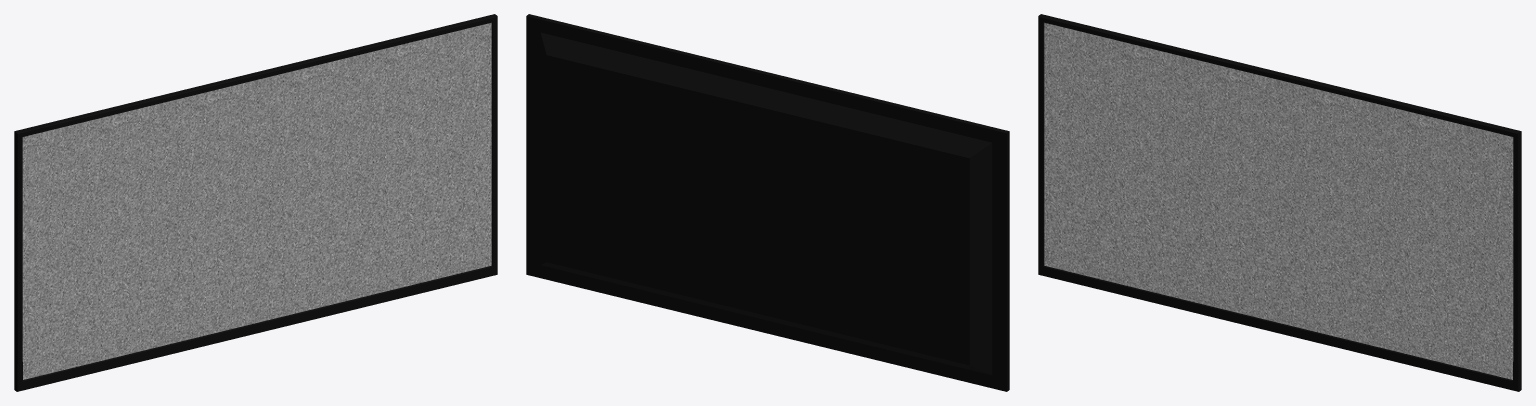
Rendered from watchman_of_doom_screen.glb.
3 renders of one model, left to right at view 1: azimuth 30°, elevation 25°; view 2: azimuth 150°, elevation 25°; view 3: azimuth 330°, elevation 25°, orthographic.
Parts seen in each view (by area): view 1: Object_2, Object_3; view 2: Object_3; view 3: Object_2, Object_3.
Part boxes in pixels (bbox=[...]): Object_2: bbox=[22, 22, 491, 379]; Object_3: bbox=[14, 14, 497, 391]; Object_3: bbox=[526, 14, 1009, 391]; Object_2: bbox=[1044, 22, 1513, 379]; Object_3: bbox=[1038, 14, 1521, 391].
Size of the model in its own units: 68.9 by 35.43 by 2.9.
3 materials, 1 textured.
